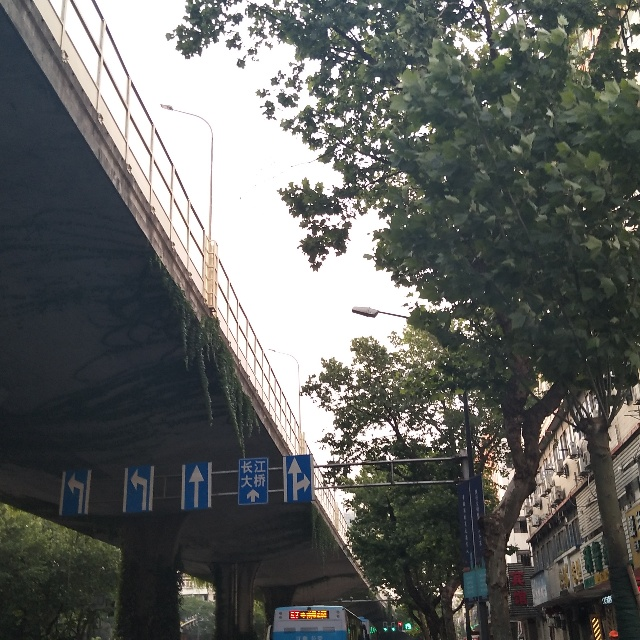left: (58, 469, 91, 515), (123, 466, 153, 513)
straight: (181, 462, 211, 509)
